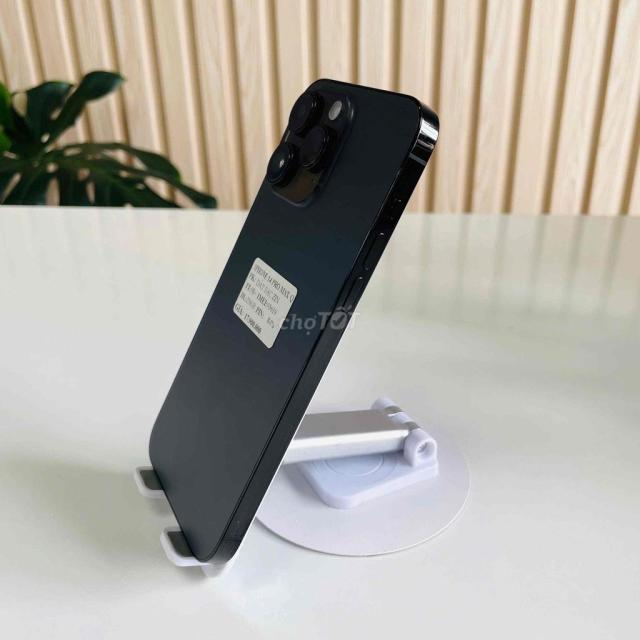gen_14: (135, 74, 443, 570)
